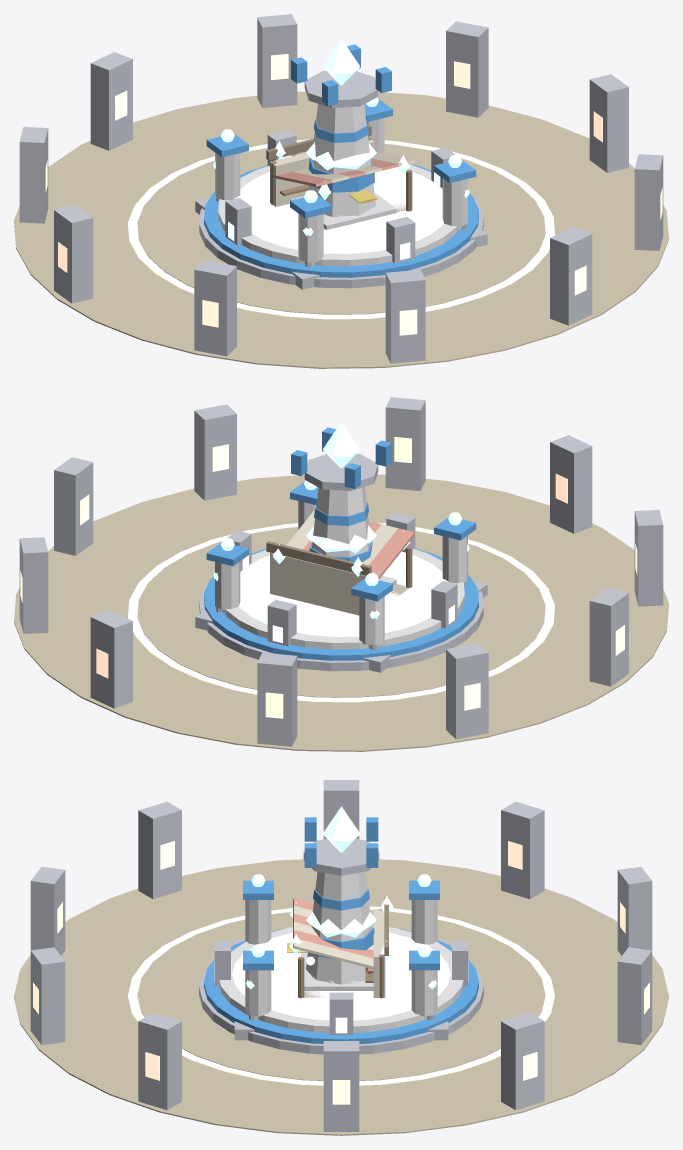
The model's file is moba_kit.glb.
3 renders of one model, top to bottom at view 1: azimuth 30°, elevation 25°; view 2: azimuth 150°, elevation 25°; view 3: azimuth 270°, elevation 25°, orthographic.
Visible parts, largest first — view 1: moba_camp_colossus, moba_fountain_blue, moba_tower_blue, moba_core_blue, moba_shop, moba_camp_guardian; view 2: moba_camp_colossus, moba_fountain_blue, moba_core_blue, moba_tower_blue, moba_shop, moba_camp_guardian; view 3: moba_camp_colossus, moba_fountain_blue, moba_core_blue, moba_tower_blue, moba_shop, moba_camp_guardian.
Boxes of the visible parts, box(x1,y1,x2,y2) form: moba_camp_colossus: box(14, 14, 668, 368); moba_fountain_blue: box(199, 161, 483, 288); moba_tower_blue: box(290, 39, 396, 229); moba_core_blue: box(195, 97, 487, 289); moba_shop: box(266, 125, 414, 229); moba_camp_guardian: box(225, 130, 455, 263); moba_camp_colossus: box(14, 397, 668, 751); moba_fountain_blue: box(199, 544, 483, 671); moba_core_blue: box(195, 480, 487, 672); moba_tower_blue: box(291, 422, 396, 585); moba_shop: box(266, 509, 414, 615); moba_camp_guardian: box(227, 513, 457, 646); moba_camp_colossus: box(14, 780, 668, 1135); moba_fountain_blue: box(199, 927, 483, 1054); moba_core_blue: box(234, 874, 448, 1040); moba_tower_blue: box(301, 806, 379, 990); moba_shop: box(287, 897, 388, 998); moba_camp_guardian: box(214, 941, 468, 1034).
Size of the model in its own units: 27.6 by 8.9 by 27.6.
